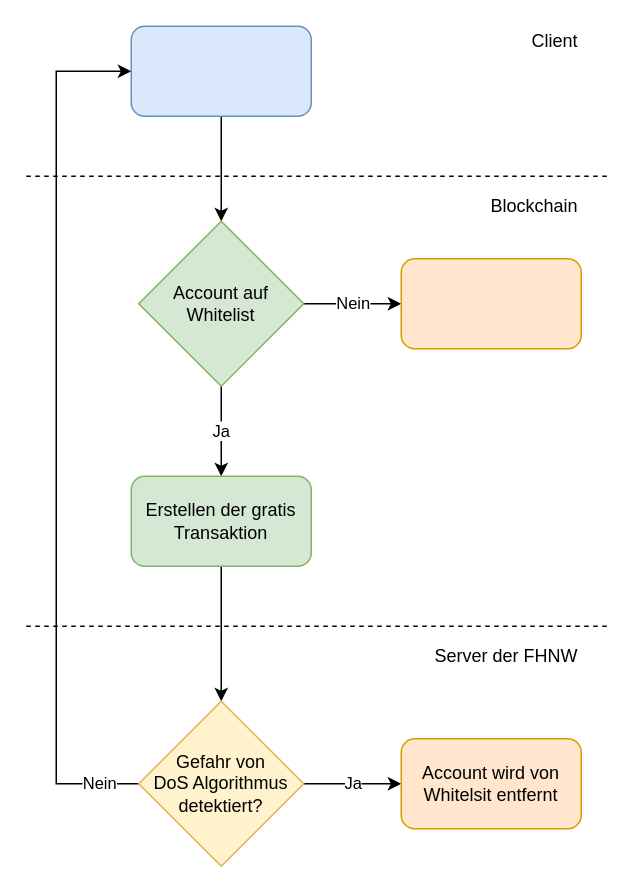
The diagram is 639 pixels wide and 893 high, and some of its shapes have lost their labels. The centre of each missing label's shape, as x and y in pixels:
"Initialisierung einer gratis TX" goes at (x=220, y=70).
"Transaktion wird abgebrochen" goes at (x=490, y=303).
